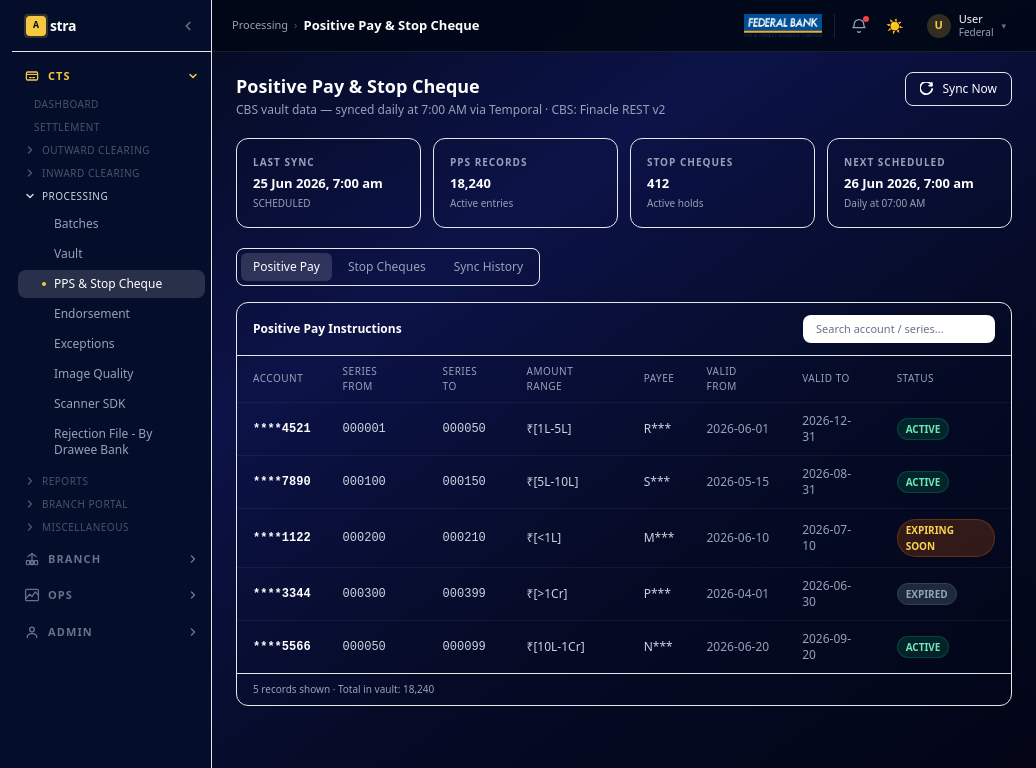
it: CTSVaultSync › switches to Stop Cheques tab
# 'Stop Cheques' appears in both the KPI card and the tab nav — click the button
What coordinates should you click on to do the following:
click the button "Stop Cheques"
I would click on:
 (387, 266)
Its box is [336,252,438,280].
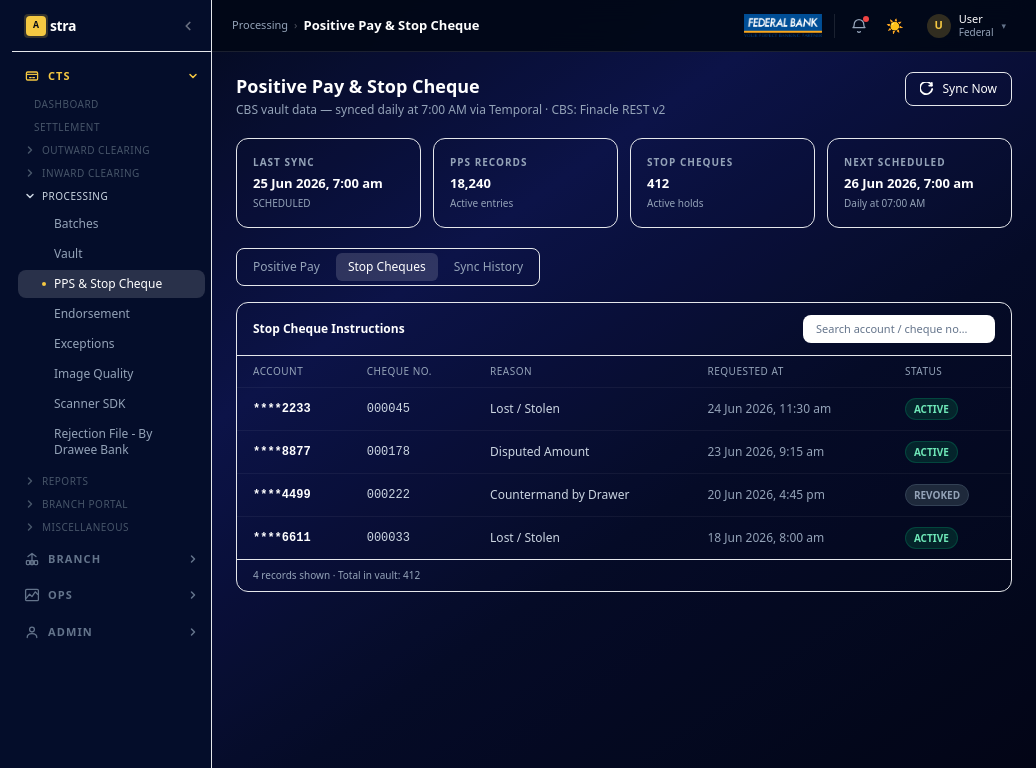
Expected: the text "Stop Cheque Instructions" is shown, [253,320,405,336]
Expected: the column heading "Reason" is shown, [474,356,692,387]
